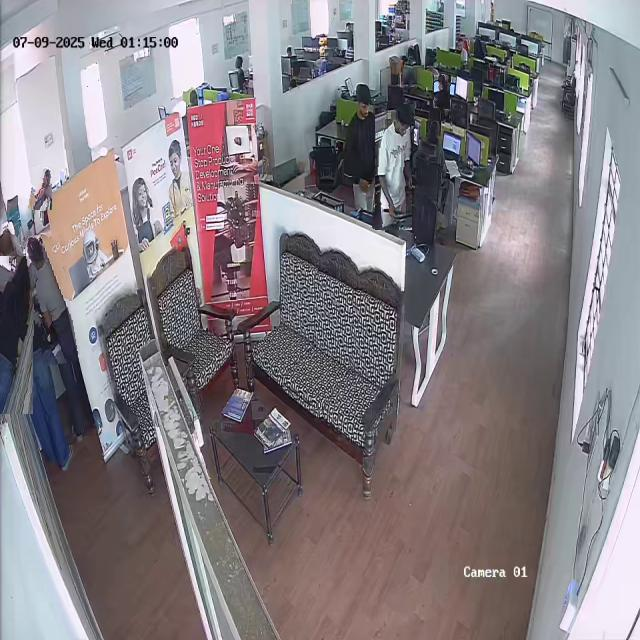person: (29, 232, 74, 365), (0, 256, 33, 414), (373, 104, 414, 230), (346, 83, 377, 212), (422, 121, 456, 218), (30, 166, 54, 211), (433, 75, 451, 110)
